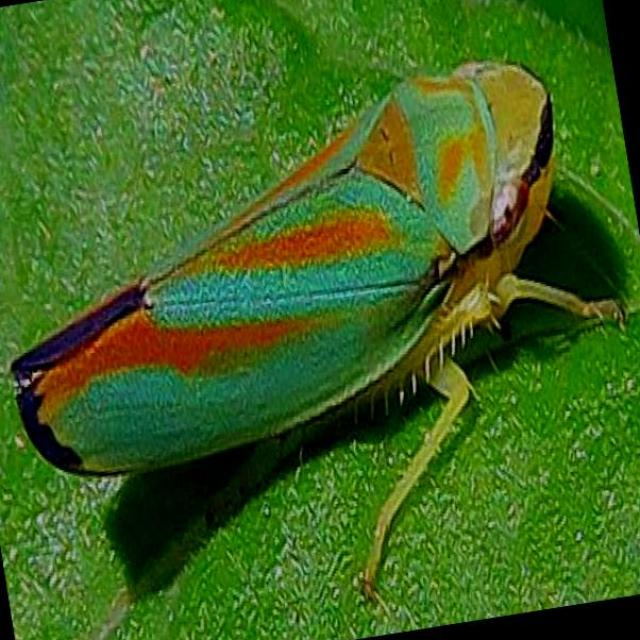green leaf hopper: (11, 62, 627, 593)
